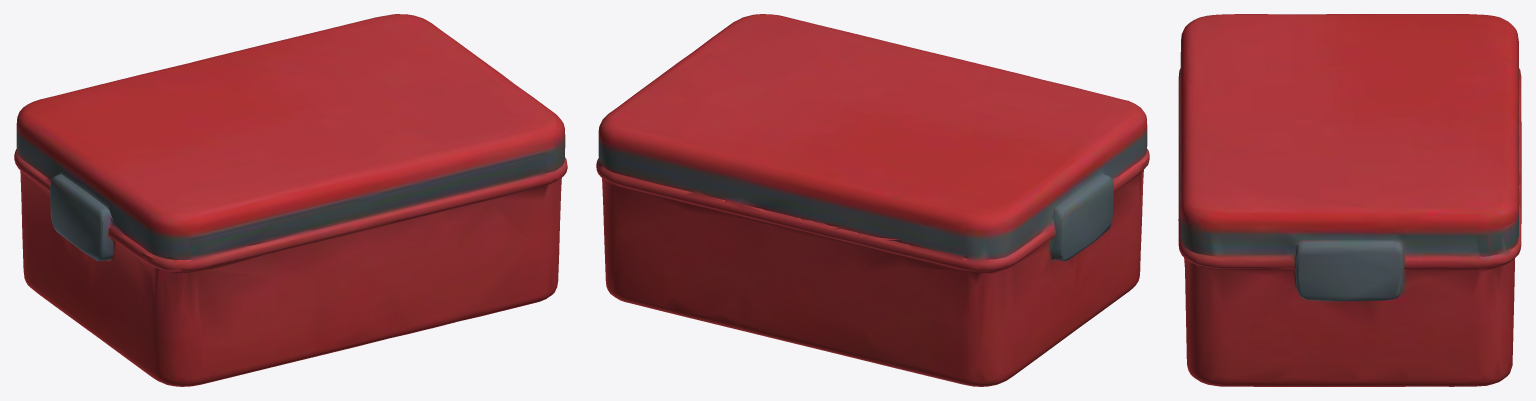
Rendered from tackle.glb.
3 renders of one model, left to right at view 1: azimuth 30°, elevation 25°; view 2: azimuth 150°, elevation 25°; view 3: azimuth 270°, elevation 25°, orthographic. The views are drawn at different scales.
Visible parts, largest first — view 1: tackle; view 2: tackle; view 3: tackle.
Boxes of the visible parts, x1,y1,x2,y2 form: tackle: (14,14,567,386); tackle: (596,14,1149,386); tackle: (1178,14,1521,386).
Size of the model in its own units: 0.7672 by 0.2999 by 0.518.
1 material, 1 textured.
